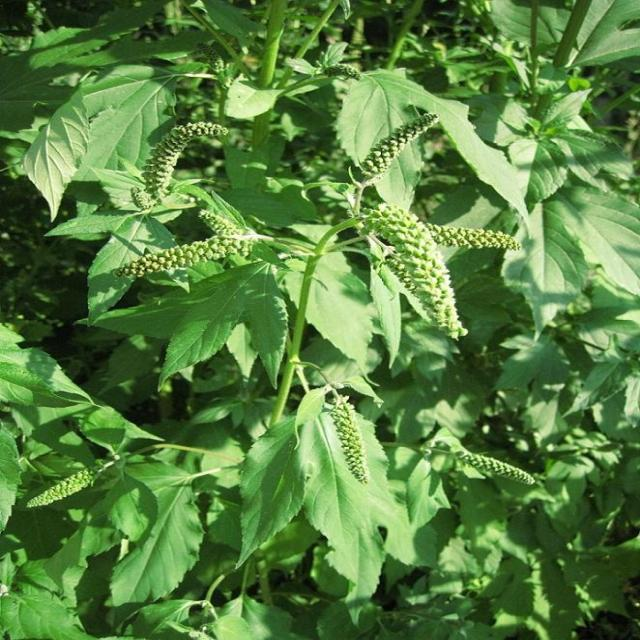ambrosia: (322, 77, 579, 370), (82, 82, 298, 389), (255, 374, 570, 552)
